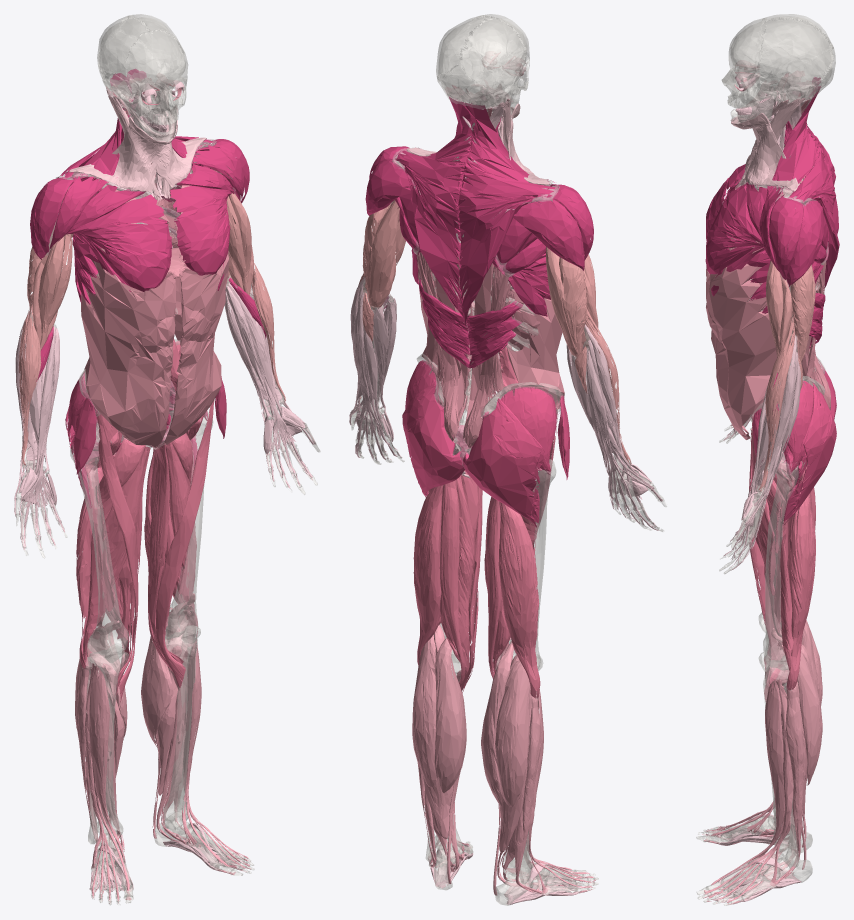
Rendered from human-muscles.glb.
The picture shows the model from 3 angles, left to right: view 1: azimuth 30°, elevation 25°; view 2: azimuth 150°, elevation 25°; view 3: azimuth 270°, elevation 25°; orthographic projection. The views are drawn at different scales.
Parts seen in each view (by area): view 1: skeleton, external-oblique, pectoralis-major, sartorius, deltoid, platysma, biceps-femoris, tibialis-anterior, biceps-brachii, gracilis, gastrocnemius, adductor-longus (+24 smaller); view 2: skeleton, trapezius, gastrocnemius, gluteus-maximus, biceps-femoris, deltoid, triceps-brachii, semitendinosus, serratus-posterior-inferior, external-oblique, iliocostalis-lumborum, semimembranosus (+21 smaller); view 3: skeleton, external-oblique, biceps-femoris, pectoralis-major, deltoid, trapezius, gluteus-maximus, gastrocnemius, platysma, tibialis-anterior, extensor-digitorum-longus, brachioradialis (+27 smaller).
Boxes of the visible parts, <box> form: skeleton: <box>15,14,320,905</box>; external-oblique: <box>81,252,228,447</box>; pectoralis-major: <box>66,164,234,291</box>; sartorius: <box>95,399,214,702</box>; deltoid: <box>30,139,249,259</box>; platysma: <box>69,106,206,192</box>; biceps-femoris: <box>76,465,197,669</box>; tibialis-anterior: <box>89,641,201,863</box>; biceps-brachii: <box>38,168,251,350</box>; gracilis: <box>116,443,183,695</box>; gastrocnemius: <box>75,605,192,747</box>; adductor-longus: <box>103,442,189,585</box>; skeleton: <box>351,14,666,905</box>; trapezius: <box>394,96,558,327</box>; gastrocnemius: <box>412,635,530,806</box>; gluteus-maximus: <box>402,383,544,527</box>; biceps-femoris: <box>413,485,540,698</box>; deltoid: <box>365,146,593,270</box>; triceps-brachii: <box>362,198,586,358</box>; semitendinosus: <box>439,480,501,686</box>; serratus-posterior-inferior: <box>419,278,522,368</box>; external-oblique: <box>420,298,564,414</box>; iliocostalis-lumborum: <box>416,250,511,447</box>; semimembranosus: <box>439,475,510,682</box>; skeleton: <box>696,14,835,905</box>; external-oblique: <box>706,264,798,439</box>; biceps-femoris: <box>778,464,815,690</box>; pectoralis-major: <box>705,164,768,296</box>; deltoid: <box>759,186,824,286</box>; trapezius: <box>772,77,839,290</box>; gluteus-maximus: <box>783,358,836,525</box>; gastrocnemius: <box>777,620,822,785</box>; platysma: <box>730,97,798,191</box>; tibialis-anterior: <box>747,644,784,866</box>; extensor-digitorum-longus: <box>704,679,793,902</box>; brachioradialis: <box>758,311,795,491</box>.
Bounding box in the file's own units: 648 × 1709 × 261.
